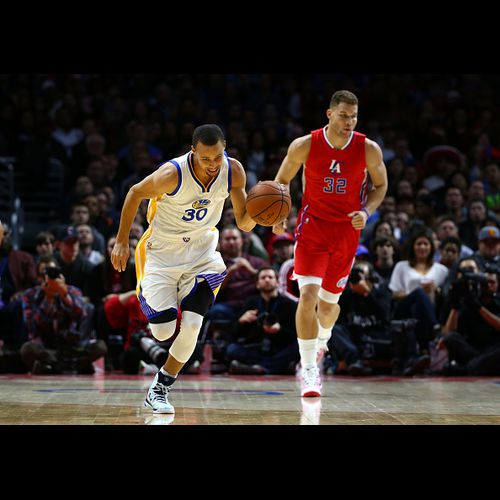ball: (247, 181, 288, 226)
